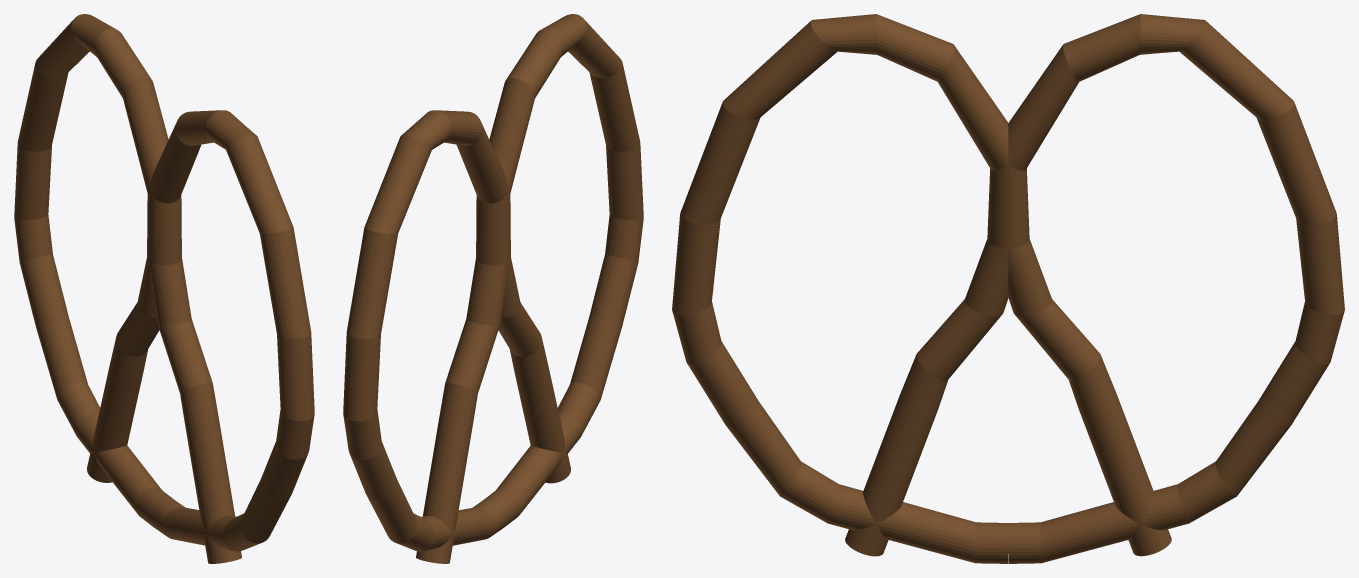
Rendered from Pretzel1.fbx.
3 views of the same model, side by side, from view 1: azimuth 30°, elevation 25°; view 2: azimuth 150°, elevation 25°; view 3: azimuth 270°, elevation 25° (orthographic). The views are drawn at different scales.
Visible parts, largest first — view 1: Cylinder, Cylinder.001; view 2: Cylinder.001, Cylinder; view 3: Cylinder, Cylinder.001.
Part boxes in pixels (x1,y1,x2,y2): Cylinder: (149, 110, 314, 563); Cylinder.001: (14, 14, 172, 526); Cylinder.001: (343, 110, 508, 563); Cylinder: (484, 14, 643, 526); Cylinder: (672, 14, 1008, 563); Cylinder.001: (1008, 14, 1344, 563).
Bounding box in the file's own units: 4 × 58.77 × 65.63.
